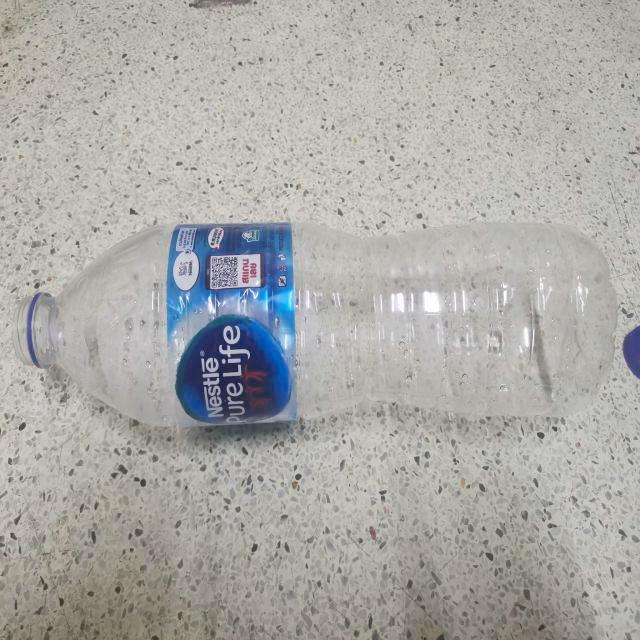bottle: (12, 223, 617, 427)
